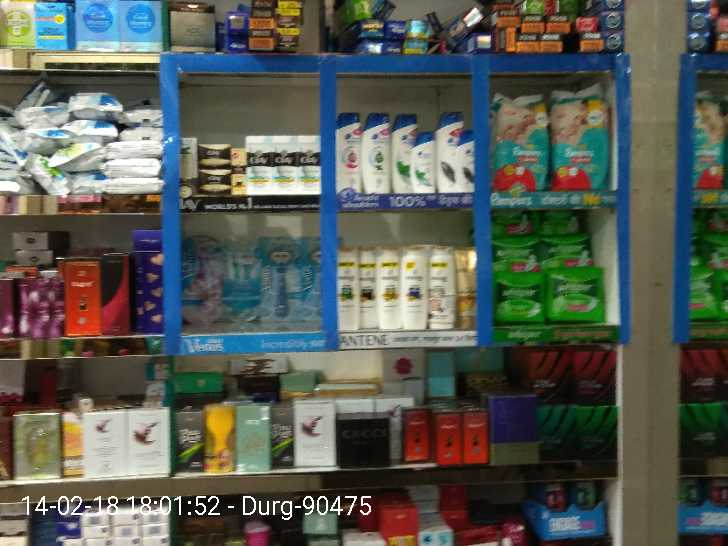venus: (258, 235, 298, 324), (184, 234, 224, 321), (224, 235, 258, 321), (299, 237, 322, 324)
